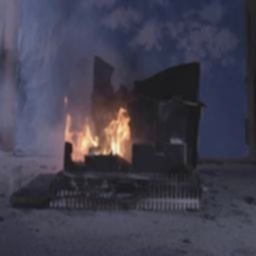fire: (53, 88, 143, 169)
